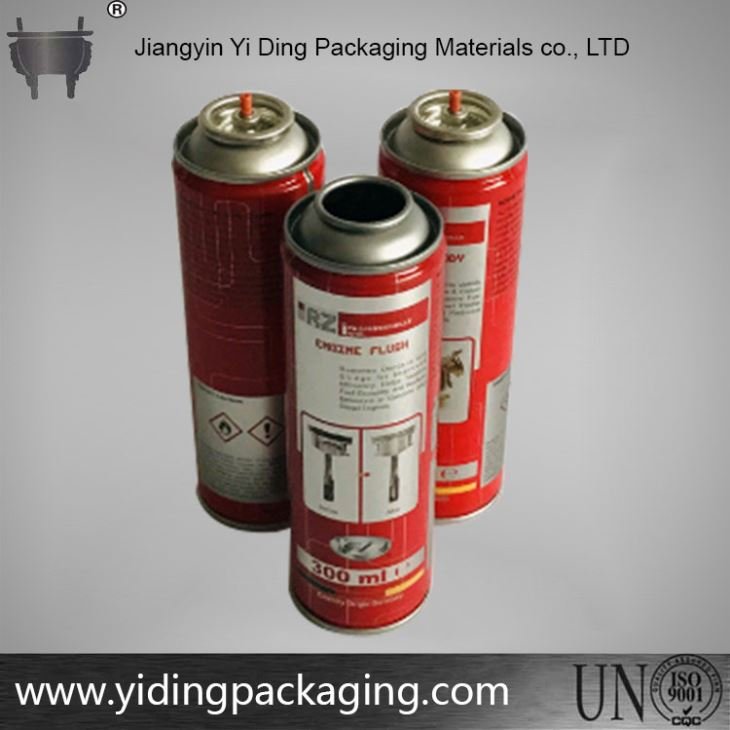Aerosol_cans: (279, 172, 437, 637), (168, 89, 327, 539), (377, 86, 532, 524)
